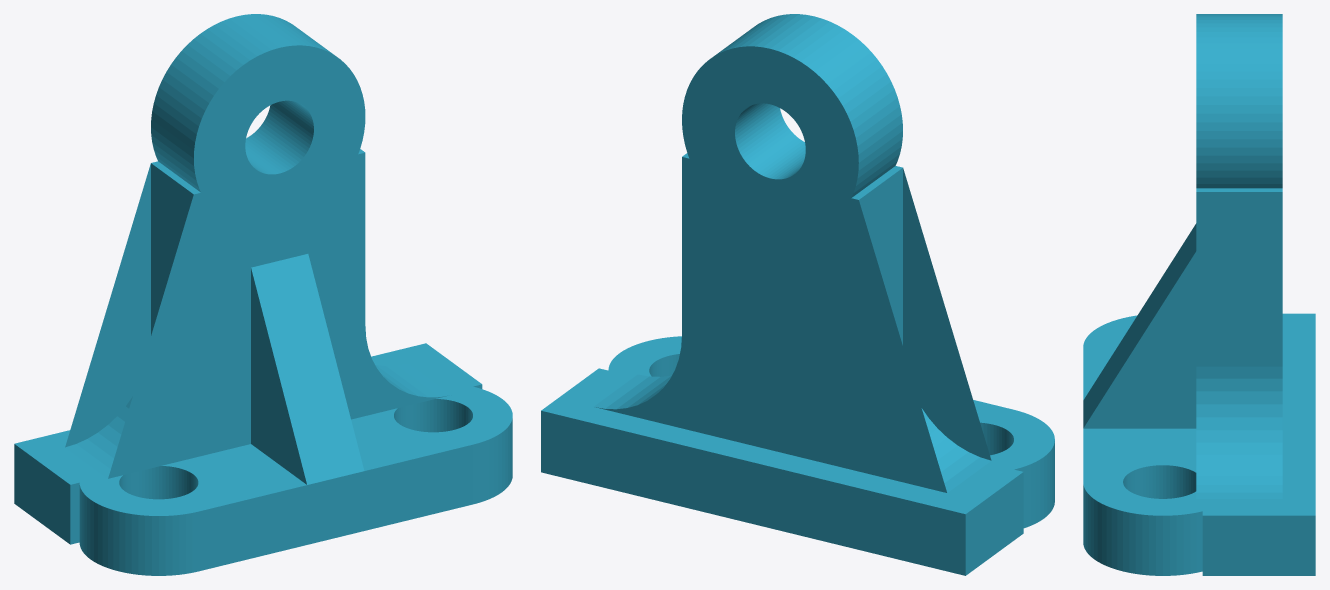
The model's file is bracket-93-reference.glb.
The picture shows the model from 3 angles, left to right: view 1: azimuth 30°, elevation 25°; view 2: azimuth 150°, elevation 25°; view 3: azimuth 270°, elevation 25°; orthographic projection. The views are drawn at different scales.
Parts seen in each view (by area): view 1: Bracket 93; view 2: Bracket 93; view 3: Bracket 93.
Part boxes in pixels (x1,y1,x2,y2): Bracket 93: (14, 14, 512, 575); Bracket 93: (541, 14, 1054, 575); Bracket 93: (1083, 14, 1315, 575).
Size of the model in its own units: 72 by 75 by 35.
